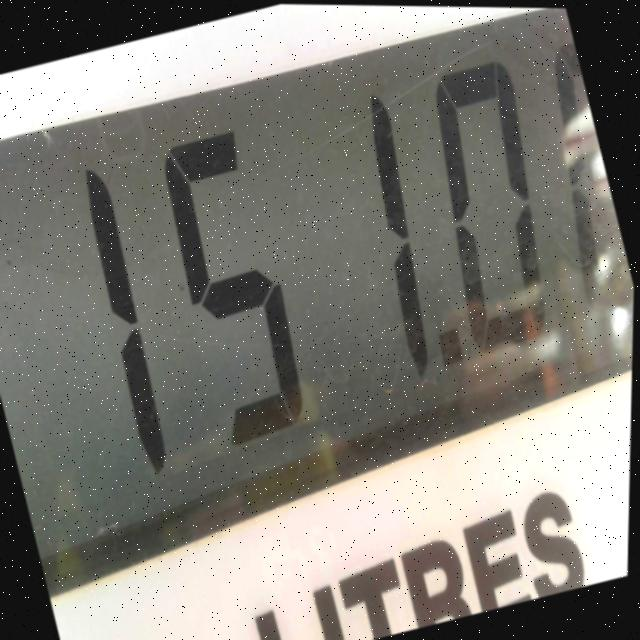.: (420, 296, 491, 415)
0: (396, 44, 583, 369)
1: (300, 75, 462, 402), (52, 163, 200, 500)
5: (127, 80, 362, 472)
